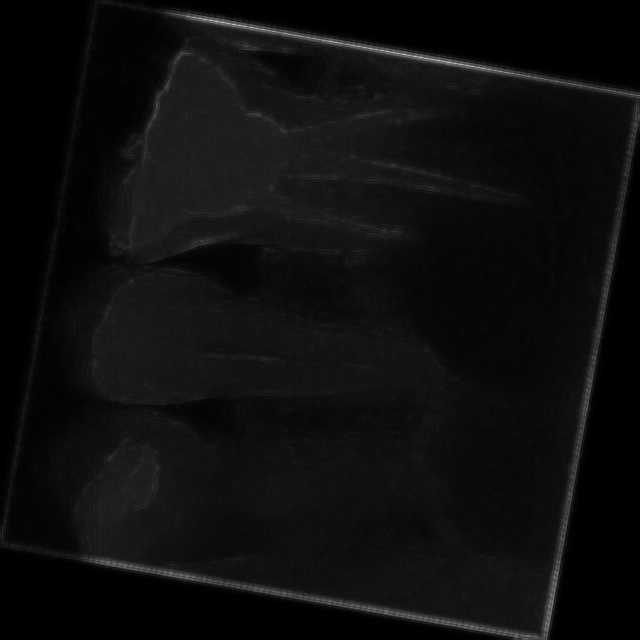Class 0- No endodontic treatment: (81, 7, 563, 350)
Class 2- incomplete endodontic treatment: (18, 334, 484, 622)
